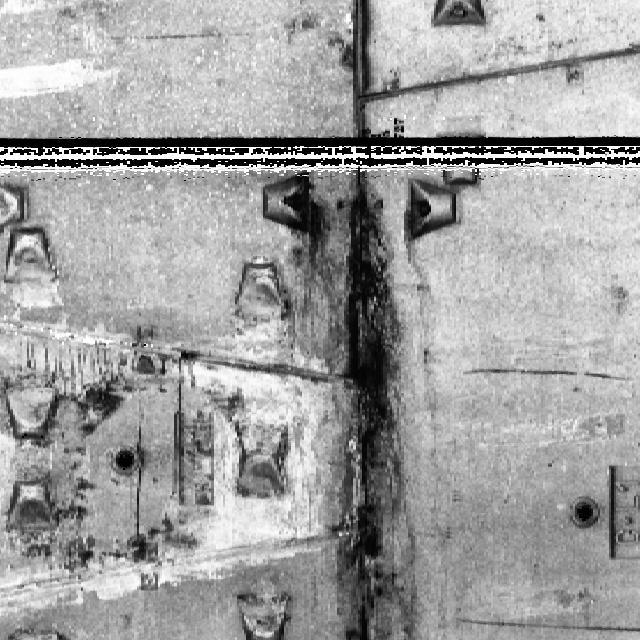leakage: (310, 160, 418, 639)
